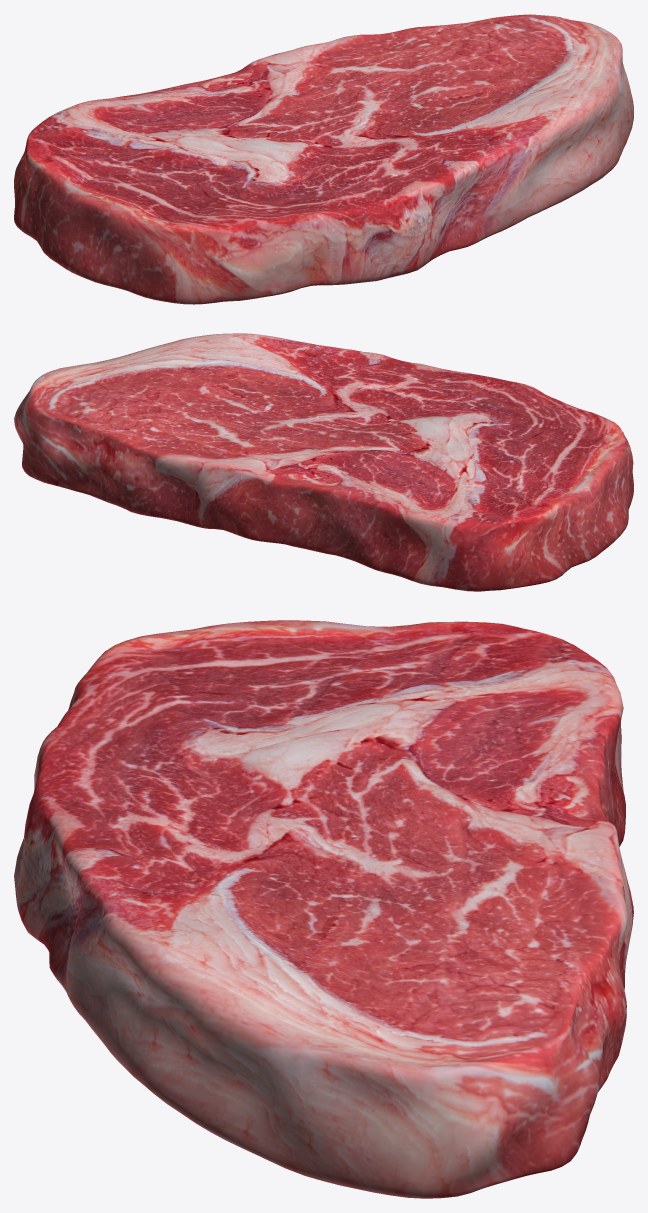
Rendered from steak-webp-webp-opt.glb.
The picture shows the model from 3 angles, top to bottom: view 1: azimuth 30°, elevation 25°; view 2: azimuth 150°, elevation 25°; view 3: azimuth 270°, elevation 25°; orthographic projection. The views are drawn at different scales.
Visible parts, largest first — view 1: beefsteak; view 2: beefsteak; view 3: beefsteak.
Boxes of the visible parts, x1,y1,x2,y2 form: beefsteak: (14, 14, 633, 304); beefsteak: (14, 333, 633, 591); beefsteak: (14, 620, 633, 1198).
Size of the model in its own units: 15.81 by 2.35 by 8.73.
1 material, 1 textured.
